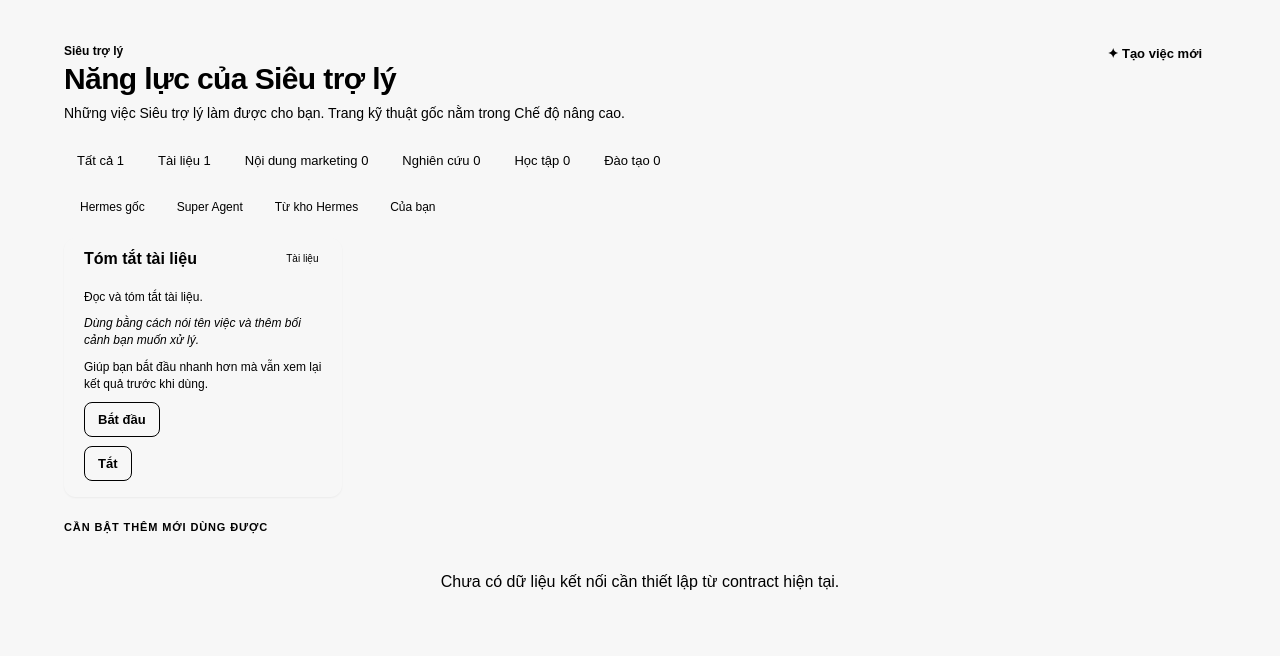
it: Super Agent capabilities page › wires the skill toggle contract to the management control
Expected: the heading "Tóm tắt tài liệu" is shown, 84,250 -> 197,268
Click the button with aria-label "Tắt Tóm tắt tài liệu".
click(108, 464)  # box 84,446 -> 132,482
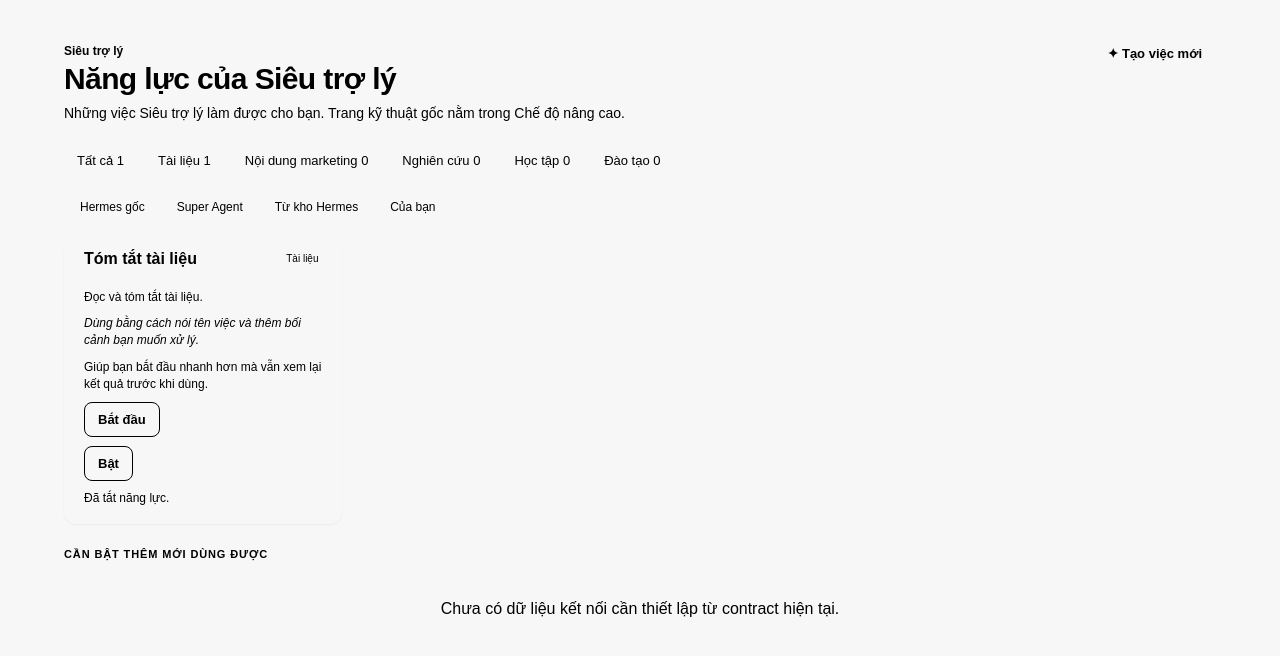
Expected: the text "Đã tắt năng lực." is shown, 84,492 -> 169,506
